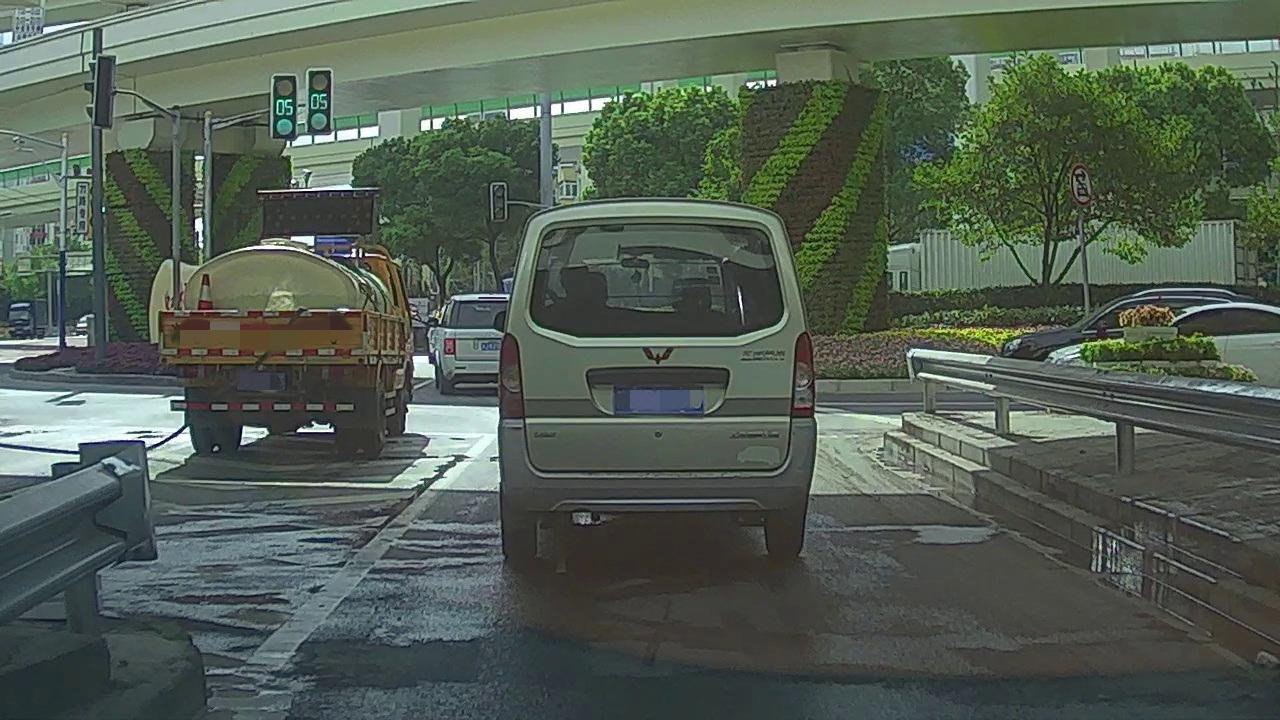traffic_light: (271, 74, 296, 138), (310, 69, 333, 134), (491, 183, 506, 218)
